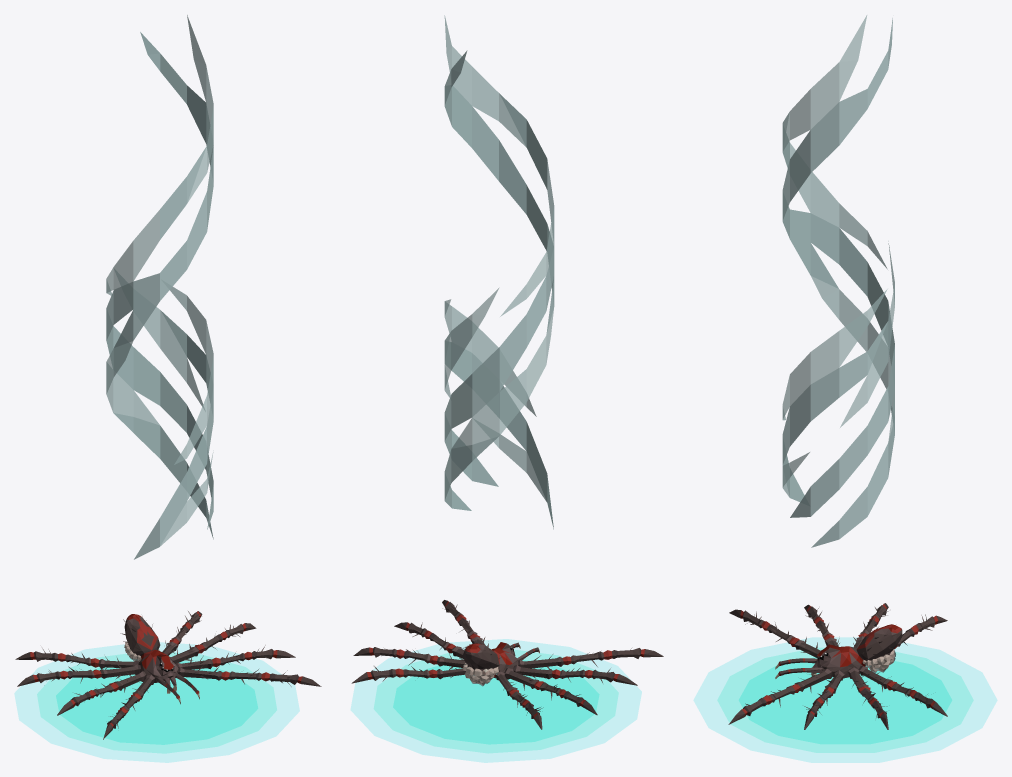
File: spindel.gltf
3 views of the same model, side by side, from view 1: azimuth 30°, elevation 25°; view 2: azimuth 150°, elevation 25°; view 3: azimuth 270°, elevation 25° (orthographic). The views are drawn at different scales.
Size of the model in its own units: 486 by 1276 by 498.
2 materials, 2 textured.
